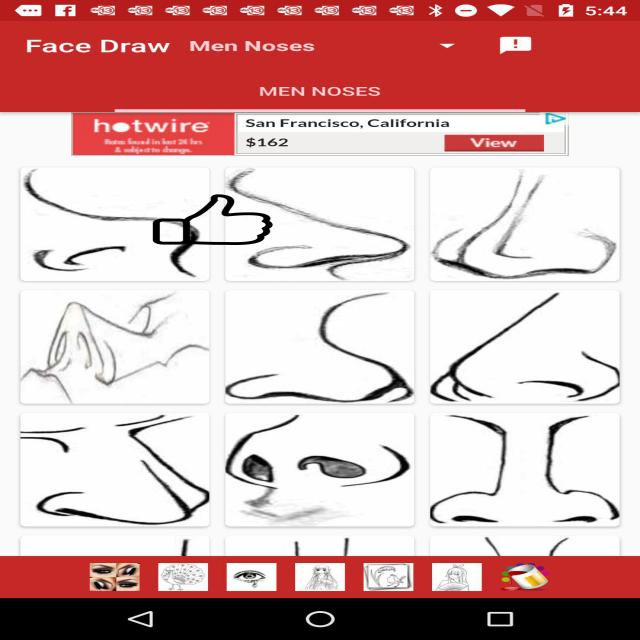privacy zuckering: (151, 194, 274, 245)
